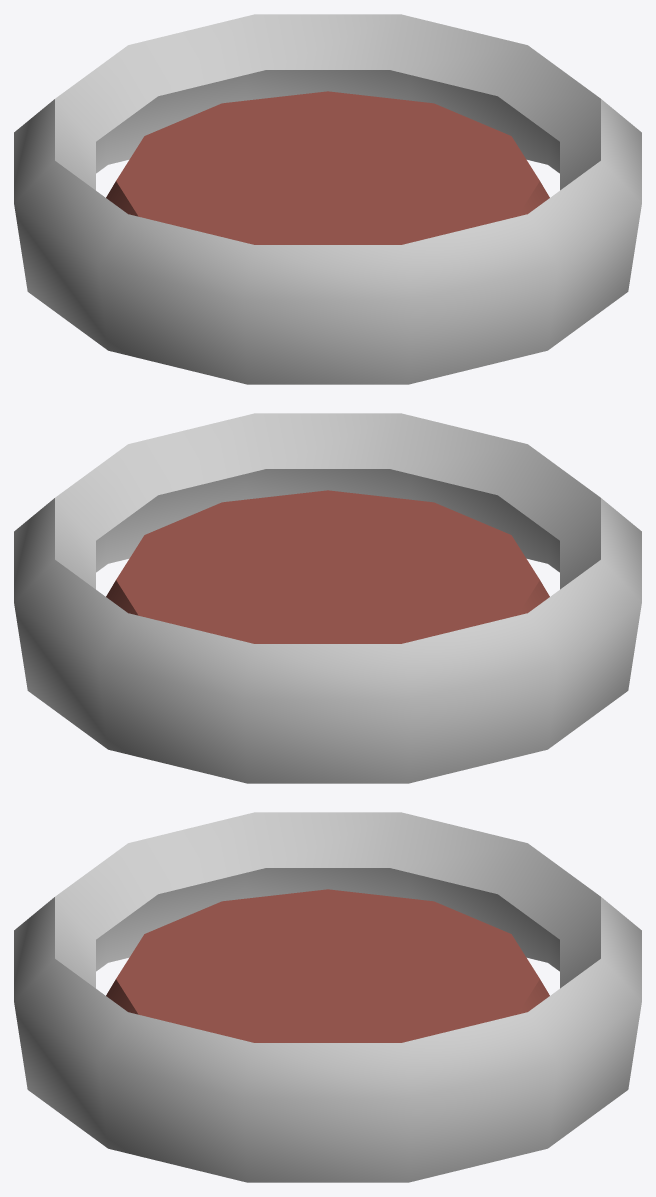
Rendered from animal_bed.obj.
3 views of the same model, one above another, from view 1: azimuth 30°, elevation 25°; view 2: azimuth 150°, elevation 25°; view 3: azimuth 270°, elevation 25° (orthographic).
Parts seen in each view (by area): view 1: outer_ring, soft_cushion, inner_ring; view 2: outer_ring, soft_cushion, inner_ring; view 3: outer_ring, soft_cushion, inner_ring.
Part boxes in pixels (x1,y1,x2,y2): outer_ring: (14, 70, 641, 384); soft_cushion: (106, 91, 549, 244); inner_ring: (55, 14, 600, 190); outer_ring: (14, 469, 641, 783); soft_cushion: (106, 490, 549, 643); inner_ring: (55, 413, 600, 589); outer_ring: (14, 868, 641, 1182); soft_cushion: (106, 889, 549, 1042); inner_ring: (55, 812, 600, 988).
Bounding box in the file's own units: 0.8886 × 0.2 × 0.8886.
